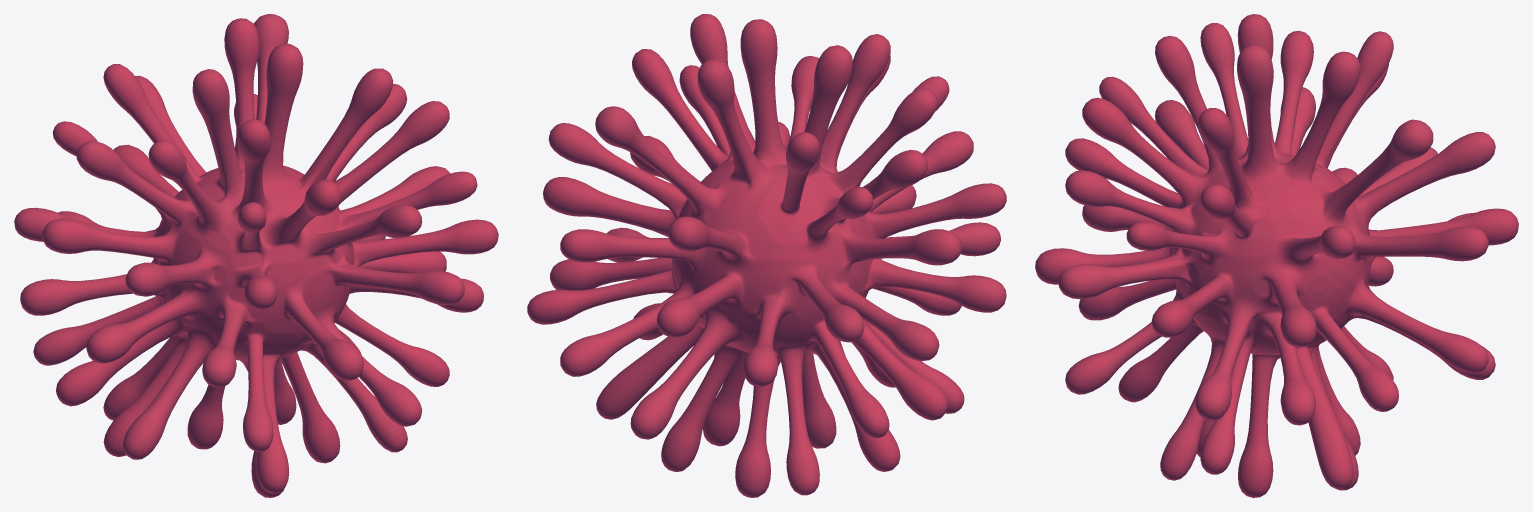
Rendered from corona_virus-transformed.glb.
3 views of the same model, side by side, from view 1: azimuth 30°, elevation 25°; view 2: azimuth 150°, elevation 25°; view 3: azimuth 270°, elevation 25° (orthographic).
Visible parts, largest first — view 1: Corona VIrus_Material_0; view 2: Corona VIrus_Material_0; view 3: Corona VIrus_Material_0.
Boxes of the visible parts, bbox=[...] form: Corona VIrus_Material_0: bbox=[14, 14, 498, 497]; Corona VIrus_Material_0: bbox=[527, 14, 1006, 497]; Corona VIrus_Material_0: bbox=[1035, 14, 1518, 497].
Size of the model in its own units: 398 by 398 by 404.
1 material, 1 textured.
